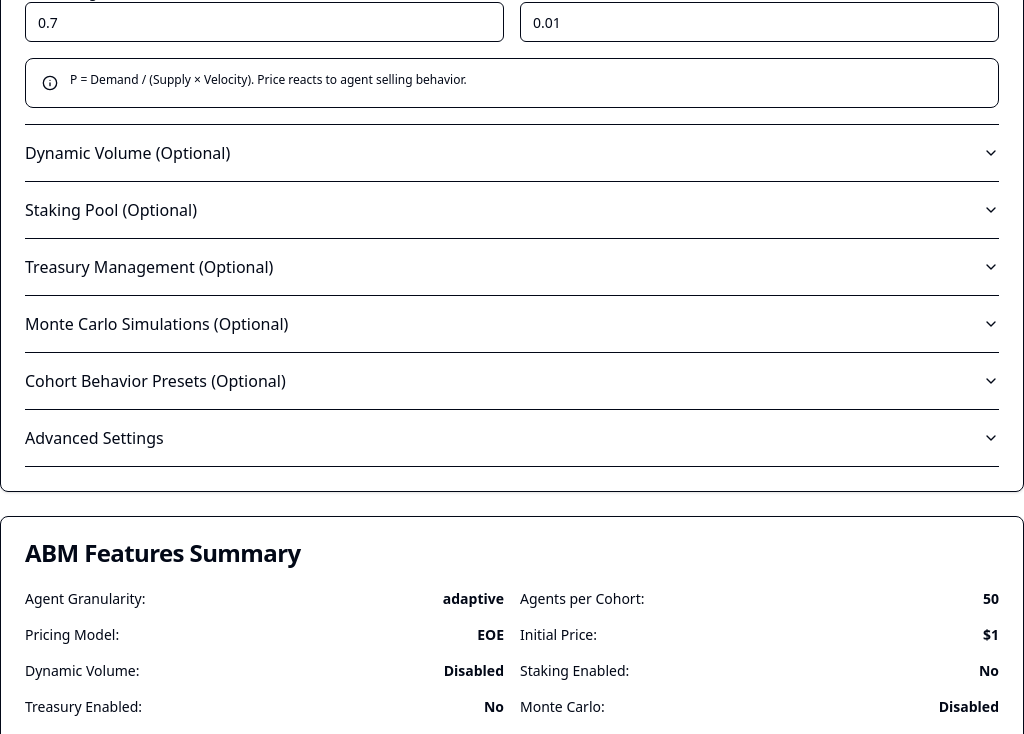
Test: ABM Configuration Form - User Interactions › Cohort Behavior Presets › shows cohort behavior preset descriptions
(page scrolled)
Note: Click cohort behavior accordion to expand it
Click the button "Cohort Behavior Presets (Optional)" at (155, 381), box [25,353,999,409]
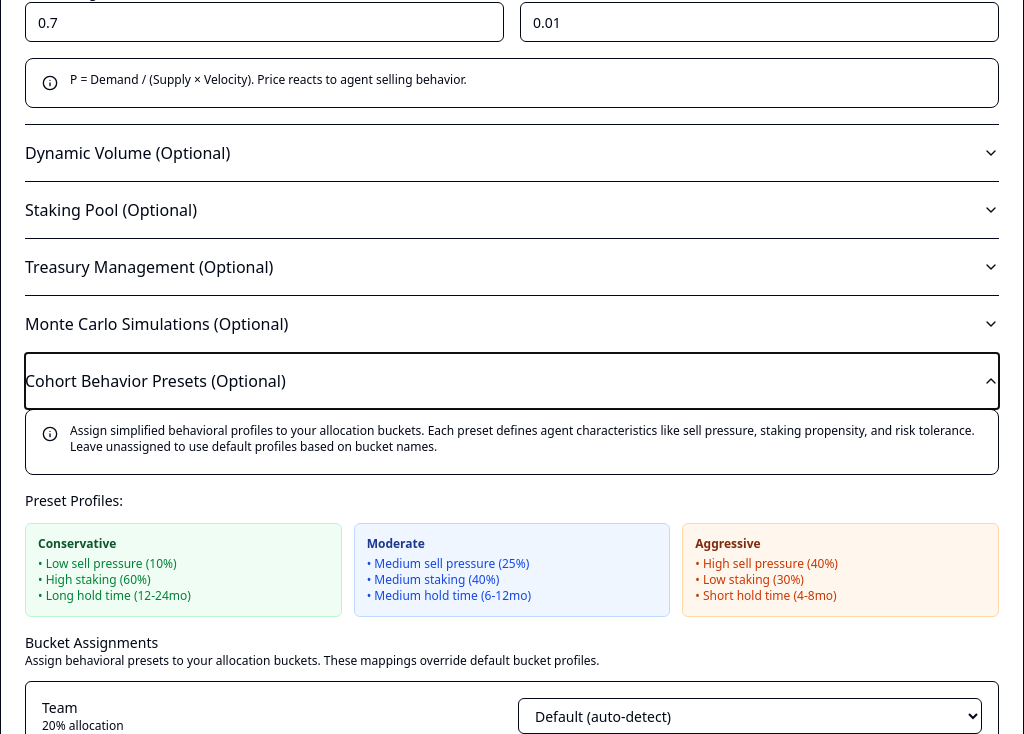
expect the text "Conservative" is shown: met, box [38,535,116,552]
expect the text "Moderate" is shown: met, box [367,535,425,552]
expect the text "Aggressive" is shown: met, box [695,535,761,552]
